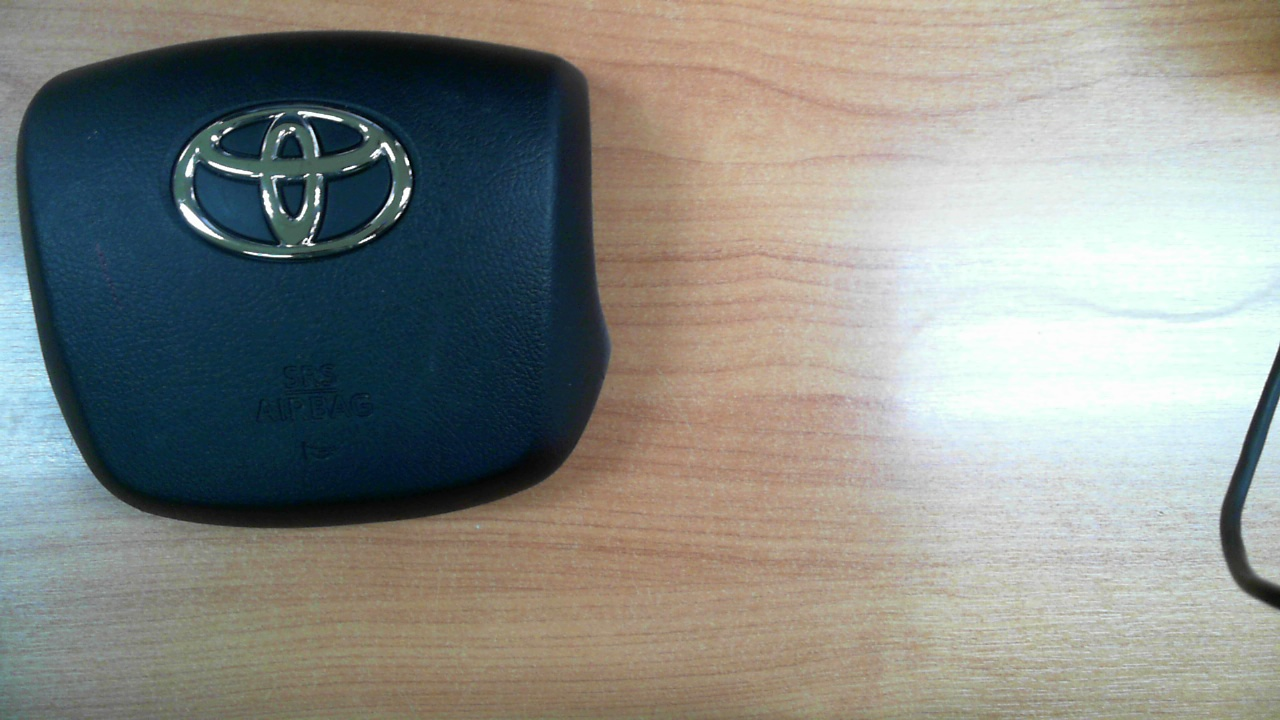Airbag: (10, 30, 607, 523)
Toyota: (172, 103, 413, 259)
